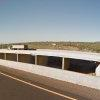Bridge: (1, 46, 100, 80)
